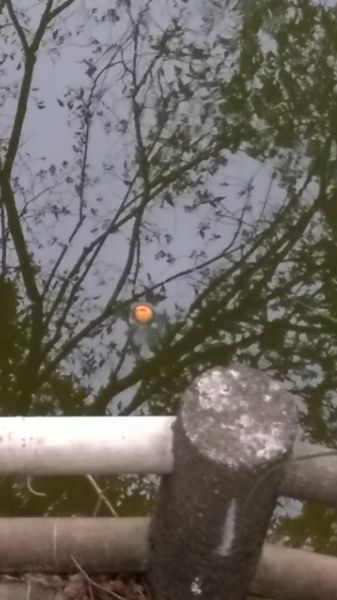eggs: (129, 300, 159, 328)
